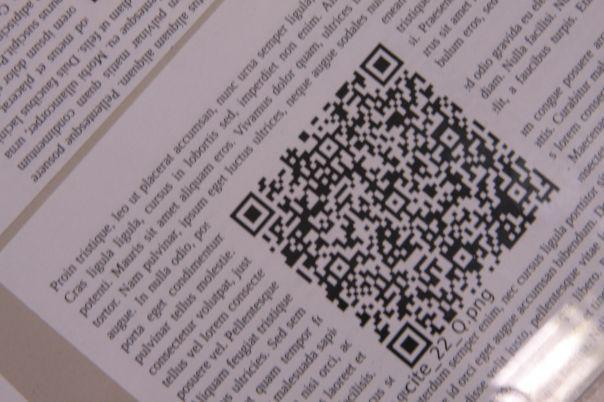Finder pattern: (385, 322, 436, 373), (228, 192, 277, 238), (359, 44, 408, 89)
